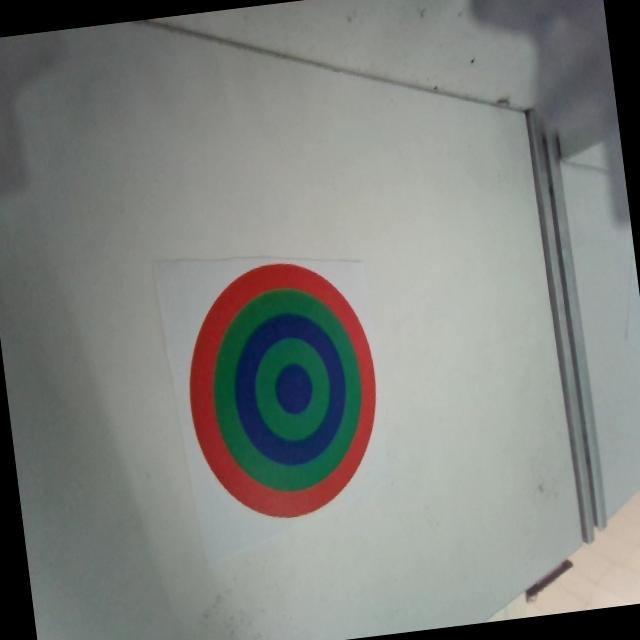cogn: (175, 252, 392, 528)
